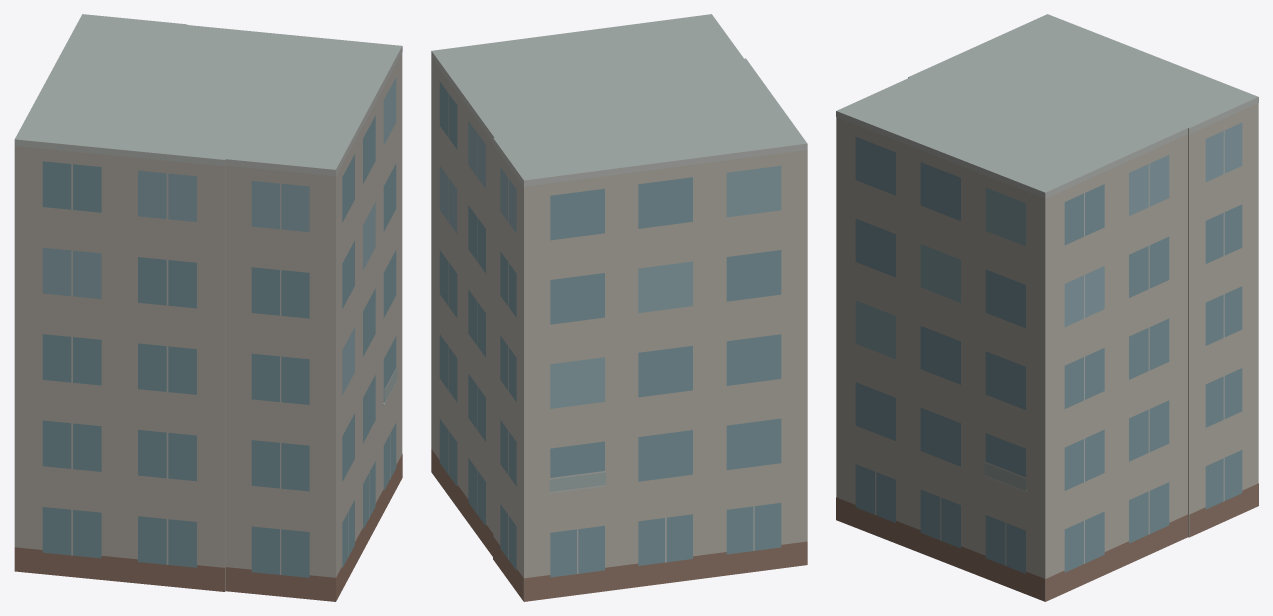
The model's file is survey-upis-32883713.glb.
3 renders of one model, left to right at view 1: azimuth 30°, elevation 25°; view 2: azimuth 150°, elevation 25°; view 3: azimuth 270°, elevation 25°, orthographic. The views are drawn at different scales.
Parts seen in each view (by area): view 1: survey-upis-32883713.tmp; view 2: survey-upis-32883713.tmp; view 3: survey-upis-32883713.tmp.
Part boxes in pixels (x1,y1,x2,y2): survey-upis-32883713.tmp: (14, 14, 402, 601); survey-upis-32883713.tmp: (431, 14, 807, 601); survey-upis-32883713.tmp: (836, 14, 1258, 601).
Bounding box in the file's own units: 15.32 × 16.35 × 15.31.
